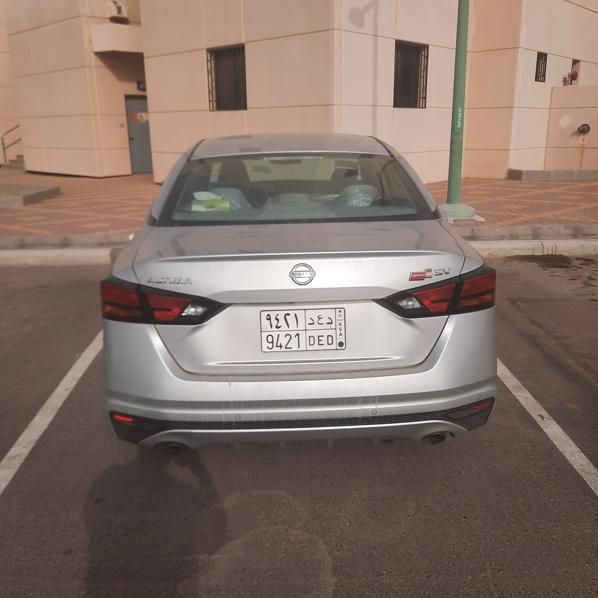numberplate: (260, 308, 347, 350)
